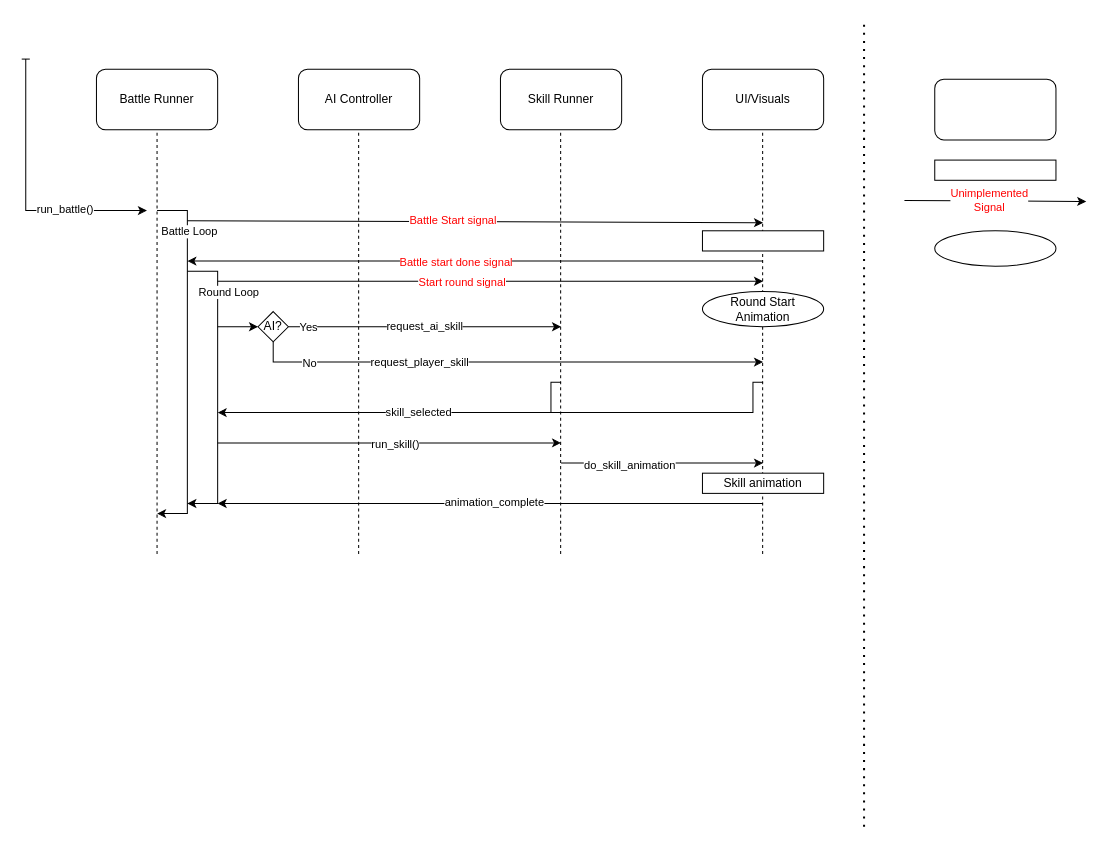
This 1112x845 diagram has some shape labels left out. Each missing label, with the centre of its shape:
"Battle Start animation" goes at pixel 762 240.
"Blocking Process" goes at pixel 995 169.
"Non-blocking process" goes at pixel 995 248.
"Object" goes at pixel 995 109.
